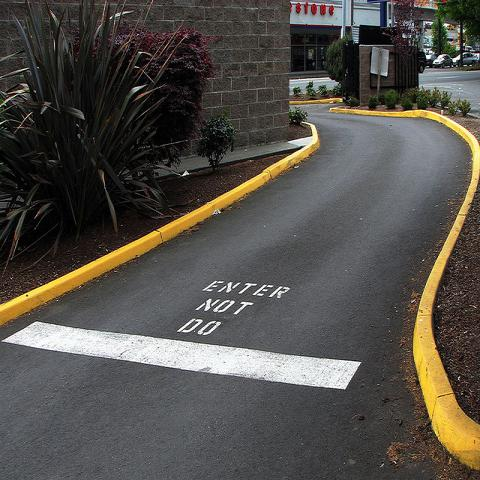car: (453, 52, 477, 68), (432, 54, 454, 68), (418, 51, 428, 74), (426, 55, 437, 68), (463, 46, 473, 52)
